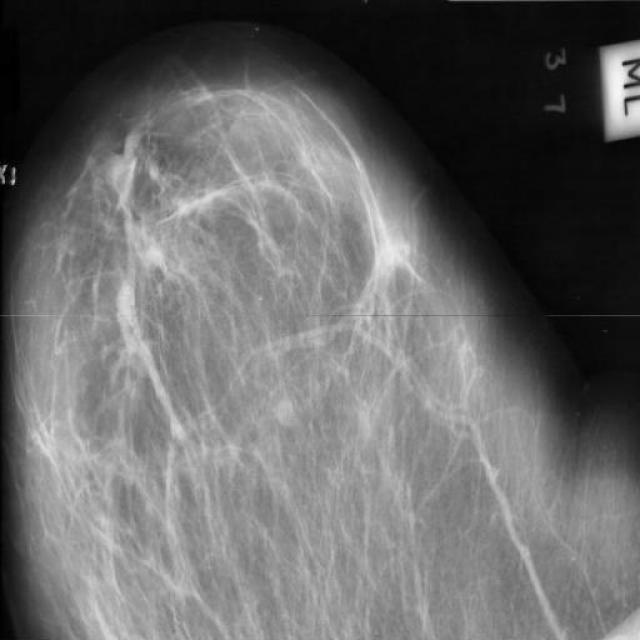cancer: (91, 299, 159, 391)
